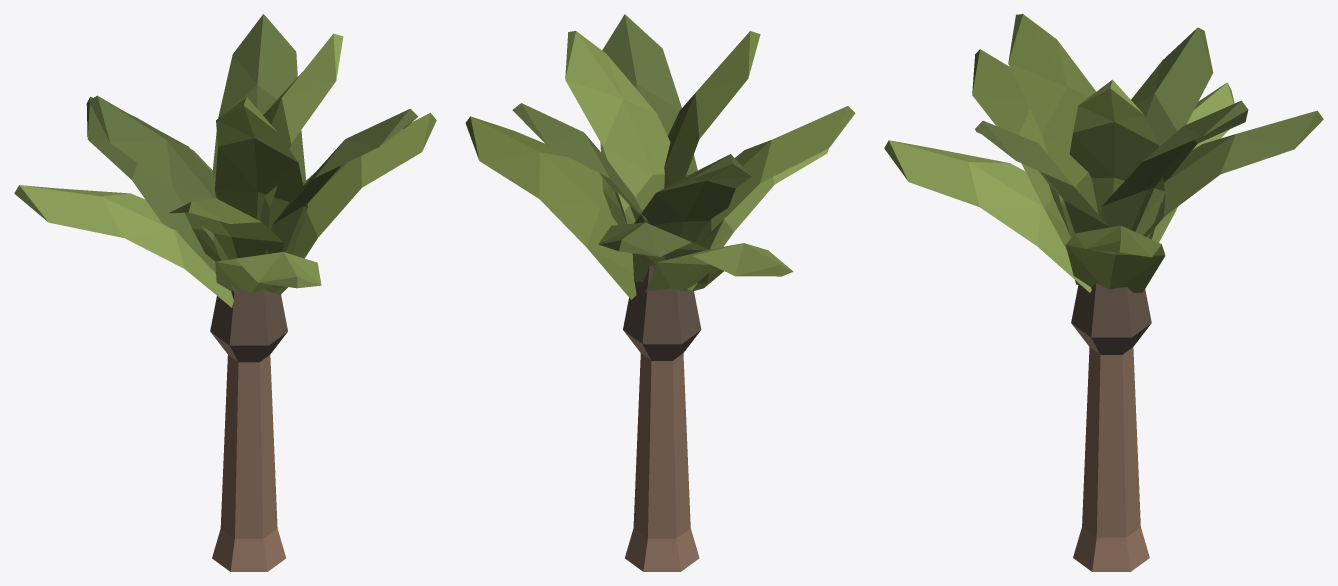
File: tree_0703.dae
The picture shows the model from 3 angles, left to right: view 1: azimuth 30°, elevation 25°; view 2: azimuth 150°, elevation 25°; view 3: azimuth 270°, elevation 25°; orthographic projection. The views are drawn at different scales.
Parts seen in each view (by area): view 1: tree_0703; view 2: tree_0703; view 3: tree_0703.
Boxes of the visible parts, box(x1,y1,x2,y2) form: tree_0703: box(14, 14, 436, 571); tree_0703: box(465, 14, 855, 571); tree_0703: box(884, 14, 1323, 571).
Bounding box in the file's own units: 3.13 × 3.12 × 4.09.
